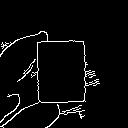cube: (26, 35, 98, 110)
